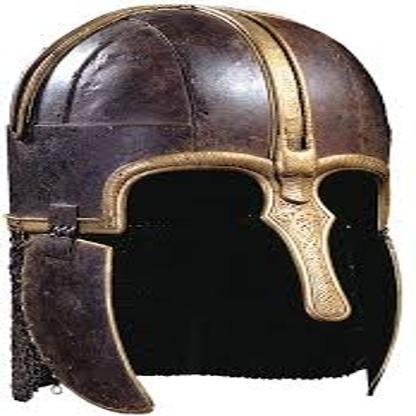not trash: (8, 3, 416, 416)
